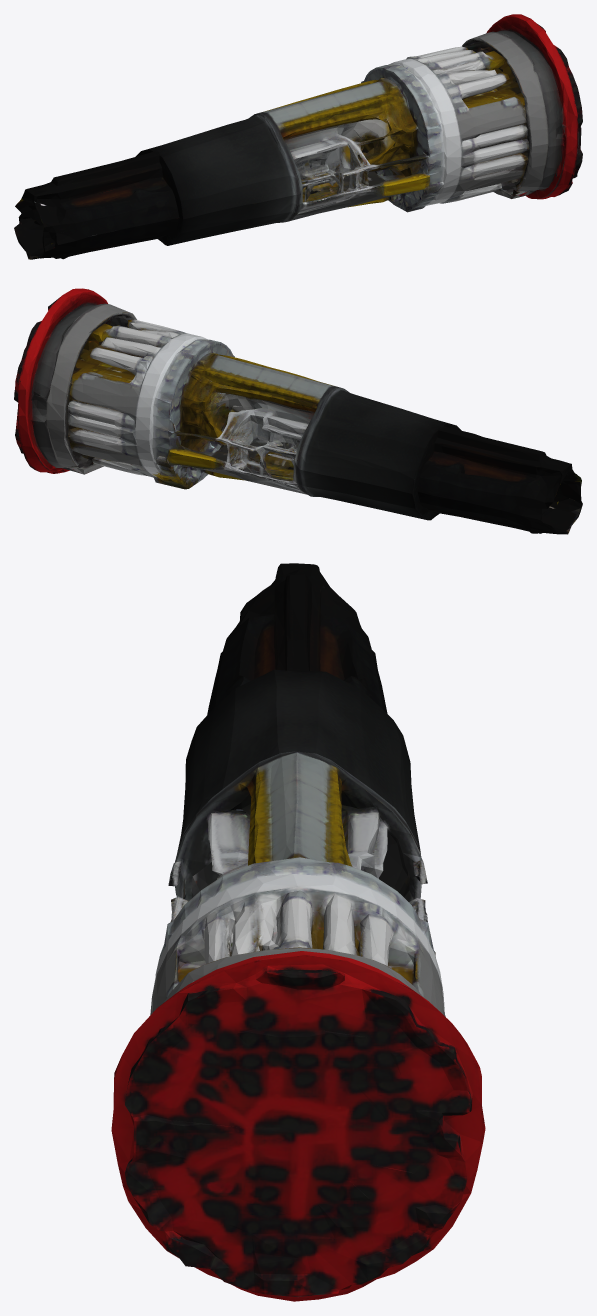
The model's file is tuneladora.glb.
3 views of the same model, one above another, from view 1: azimuth 30°, elevation 25°; view 2: azimuth 150°, elevation 25°; view 3: azimuth 270°, elevation 25° (orthographic). The views are drawn at different scales.
Visible parts, largest first — view 1: world; view 2: world; view 3: world.
Part boxes in pixels (bbox=[...]): world: bbox=[14, 14, 582, 259]; world: bbox=[14, 288, 582, 534]; world: bbox=[111, 563, 485, 1301].
Bounding box in the file's own units: 1 × 0.325 × 0.3166.
Materials: 1 (1 with a texture image).
